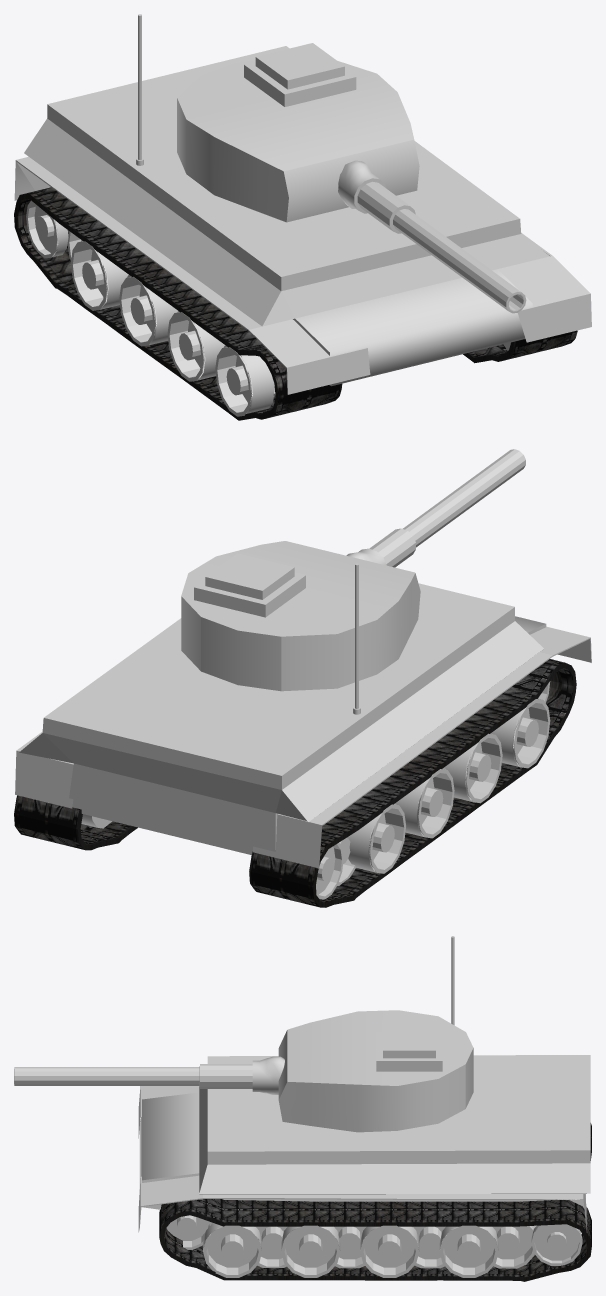
Rendered from Танк2.0.fbx.
3 views of the same model, one above another, from view 1: azimuth 30°, elevation 25°; view 2: azimuth 150°, elevation 25°; view 3: azimuth 270°, elevation 25° (orthographic). The views are drawn at different scales.
Visible parts, largest first — view 1: Танк, Box005, ГусеницаПраво, ЗащитаПраво, Cylinder001, ЗащитаЛево, Box006, Cylinder020, Cylinder016, Cylinder012, Cylinder014, Cylinder018 (+2 smaller); view 2: Танк, Box005, ГусеницаПраво, ЗащитаПраво, Box006, Cylinder001, ГусеницаЛево, Cylinder016, Cylinder012, Cylinder014, ЗащитаЛево, Cylinder020 (+2 smaller); view 3: Танк, Box005, ГусеницаЛево, Cylinder001, ЗащитаЛево, Box006, Cylinder010, Cylinder006, Cylinder004, Cylinder002, Cylinder008, Cylinder007 (+5 smaller).
Part boxes in pixels (x1,y1,x2,y2): Танк: (24,46,550,386); Box005: (177,60,419,222); ГусеницаПраво: (14,187,342,420); ЗащитаПраво: (14,156,370,394); Cylinder001: (338,160,526,313); ЗащитаЛево: (498,233,591,342); Box006: (244,43,356,106); Cylinder020: (215,347,274,416); Cylinder016: (70,241,128,310); Cylinder012: (119,276,177,346); Cylinder014: (167,312,225,381); Cylinder018: (26,200,68,258); Танк: (19,583,546,854); Box005: (181,541,420,691); ГусеницаПраво: (249,659,576,907); ЗащитаПраво: (253,626,591,868); Box006: (194,553,305,617); Cylinder001: (346,449,525,567); ГусеницаЛево: (14,795,137,850); Cylinder016: (348,804,405,873); Cylinder012: (396,768,454,838); Cylinder014: (444,733,502,803); ЗащитаЛево: (15,731,73,808); Cylinder020: (491,698,550,768); Танк: (139,1055,590,1209); Box005: (278,1010,473,1132); ГусеницаЛево: (159,1199,591,1281); Cylinder001: (14,1056,284,1094); ЗащитаЛево: (138,1175,586,1232); Box006: (376,1027,442,1071); Cylinder010: (203,1223,261,1277); Cylinder006: (439,1225,498,1277); Cylinder004: (281,1225,340,1277); Cylinder002: (360,1225,419,1277); Cylinder008: (531,1224,582,1265); Cylinder007: (492,1225,535,1268).
Bounding box in the file's own units: 25.63 × 23.59 × 51.15.
Materials: 1 (1 with a texture image).
